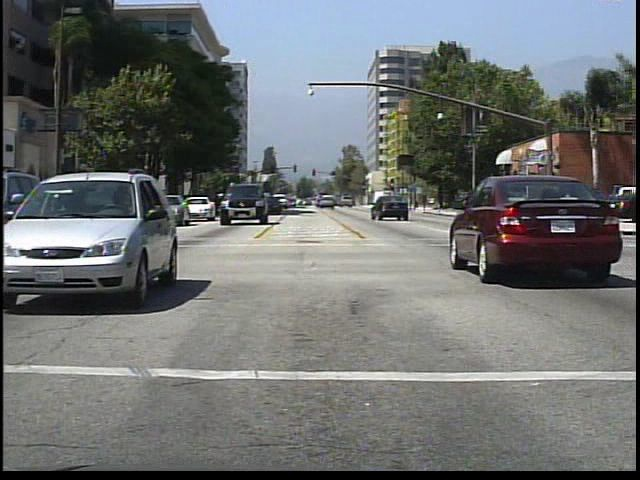person: (562, 189, 582, 233), (515, 190, 533, 227)
